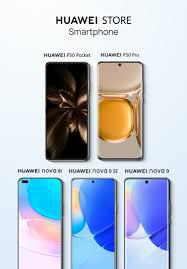Smartphone: (43, 56, 92, 160), (98, 63, 147, 160), (122, 181, 176, 269), (17, 179, 63, 269), (71, 176, 114, 269)
